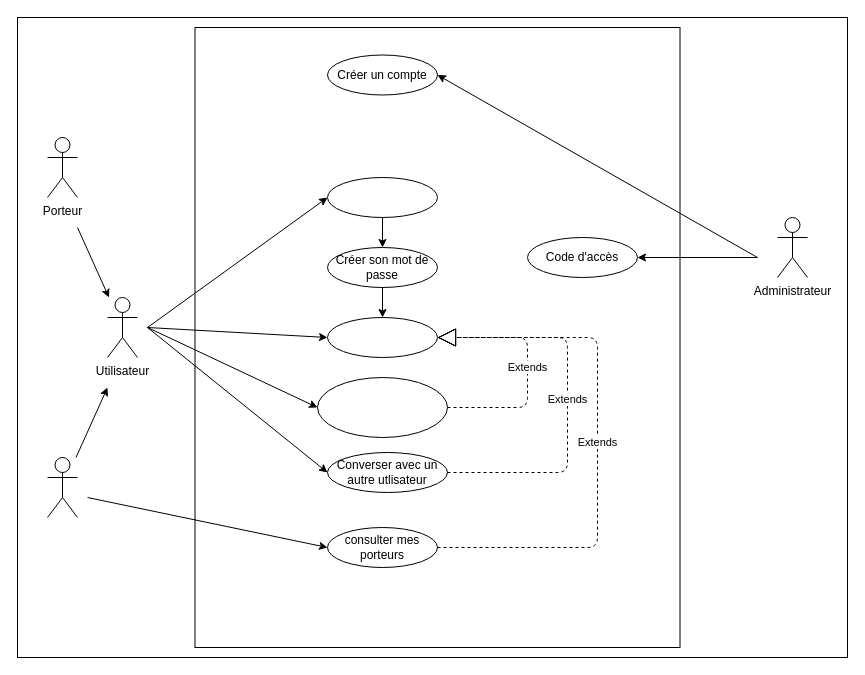
Some shapes in this 865 by 675 pixel diagram are drawn without their labels. Here are the shapes that lost their labels. From the top down, the centre of each, then its label:
the point at 382,197: Se connecter la première fois
the point at 382,337: Se connecter
the point at 382,407: Consulter/Compléter son compte
the point at 62,487: Parrain
